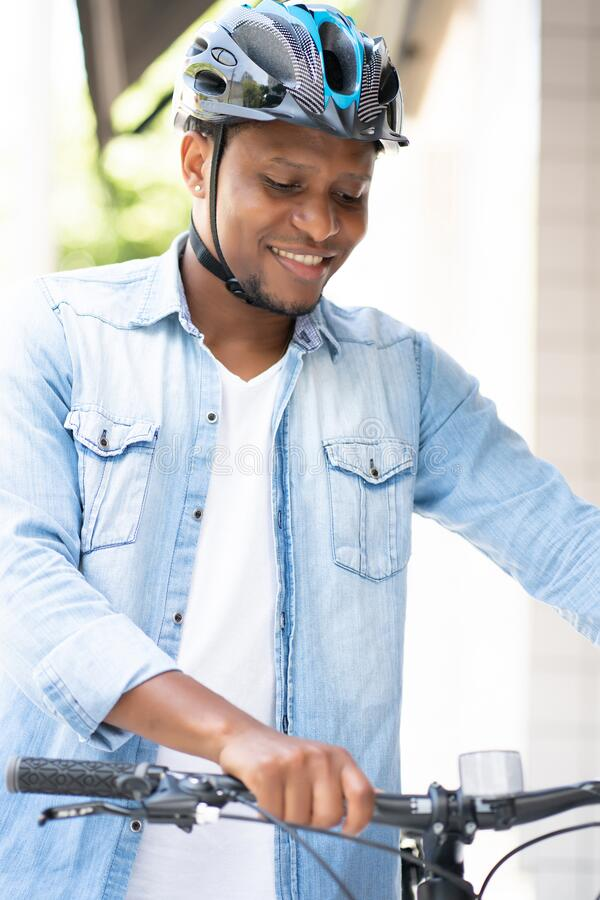helmet: (174, 1, 411, 318)
